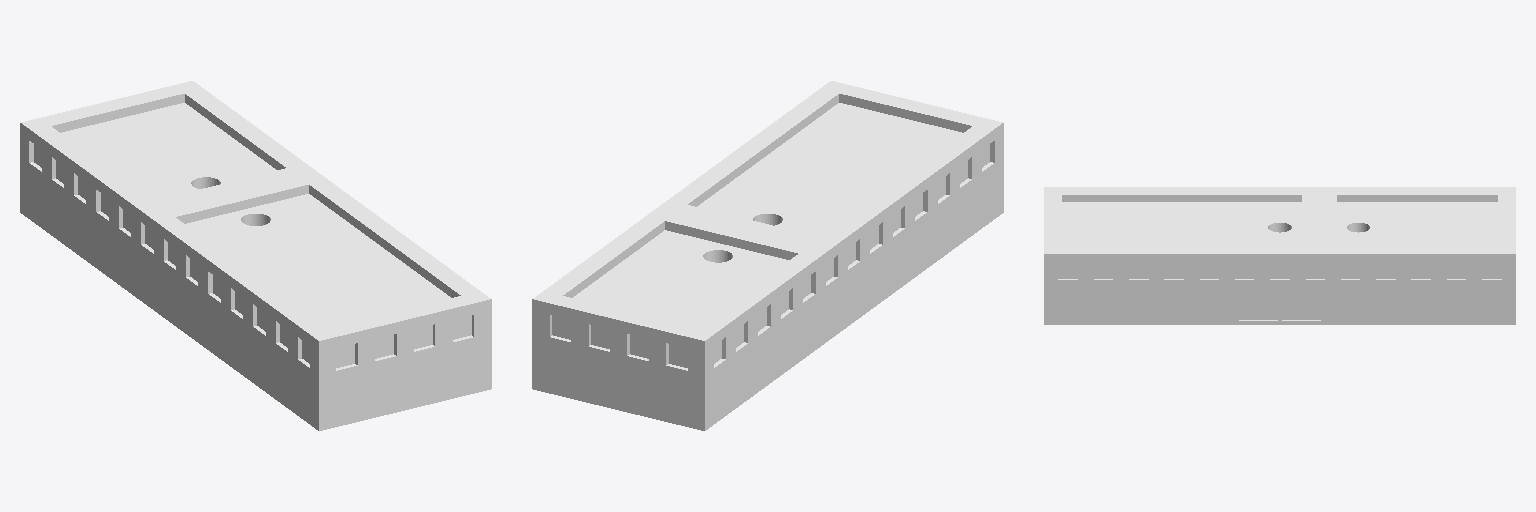
The robot description file, URDF, robot "cube.urdf":
<?xml version="1.0" ?>
<robot name="cube.urdf">
    <link name="legobrick">
        <contact>
            <lateral_friction value="1.0"/>
            <rolling_friction value="0.0"/>
            <contact_cfm value="0.0"/>
            <contact_erp value="1.0"/>
        </contact>
        <inertial>
            <origin rpy="0 0 0" xyz="0.0 0.0 0.0"/>
            <mass value="0.1"/>
            <inertia ixx="1" ixy="0" ixz="0" iyy="1" iyz="0" izz="1"/>
        </inertial>
        <visual>
            <origin rpy="1.570796 0 0" xyz="-0.001152925257731959 0.014222730670103094 -0.006989078608247398"/>
            <geometry>
                <mesh filename="Hospital_Lower.obj" scale="0.001 0.001 0.001"/>
            </geometry>
            <material name="yellow">
                <color rgba="1 1 1 1"/>
            </material>
        </visual>
        <collision>
            <origin rpy="1.570796 0 0" xyz="-0.001152925257731959 0.014222730670103094 -0.006989078608247398"/>
            <geometry>
                <mesh filename="Hospital_Lower.obj" scale="0.001 0.001 0.001"/>
            </geometry>
        </collision>
    </link>
</robot>

--- Render facts (derived) ---
3 views of the same robot in one strip: view 1: azimuth 30°, elevation 25°; view 2: azimuth 150°, elevation 25°; view 3: azimuth 270°, elevation 25° (orthographic).
Robot: cube.urdf — 1 links, 0 joints (none); root link legobrick; default pose: all joints at 0.
Visible links, largest first — view 1: legobrick; view 2: legobrick; view 3: legobrick.
Link boxes in pixels (x1,y1,x2,y2): legobrick: [20, 81, 491, 430]; legobrick: [532, 81, 1003, 430]; legobrick: [1044, 187, 1515, 324].
Bounding box of the posed robot: 0.04 × 0.12 × 0.02 m (x, y, z).
Meshes: 1 distinct files referenced, 1 mesh visuals loaded (1 OBJ).